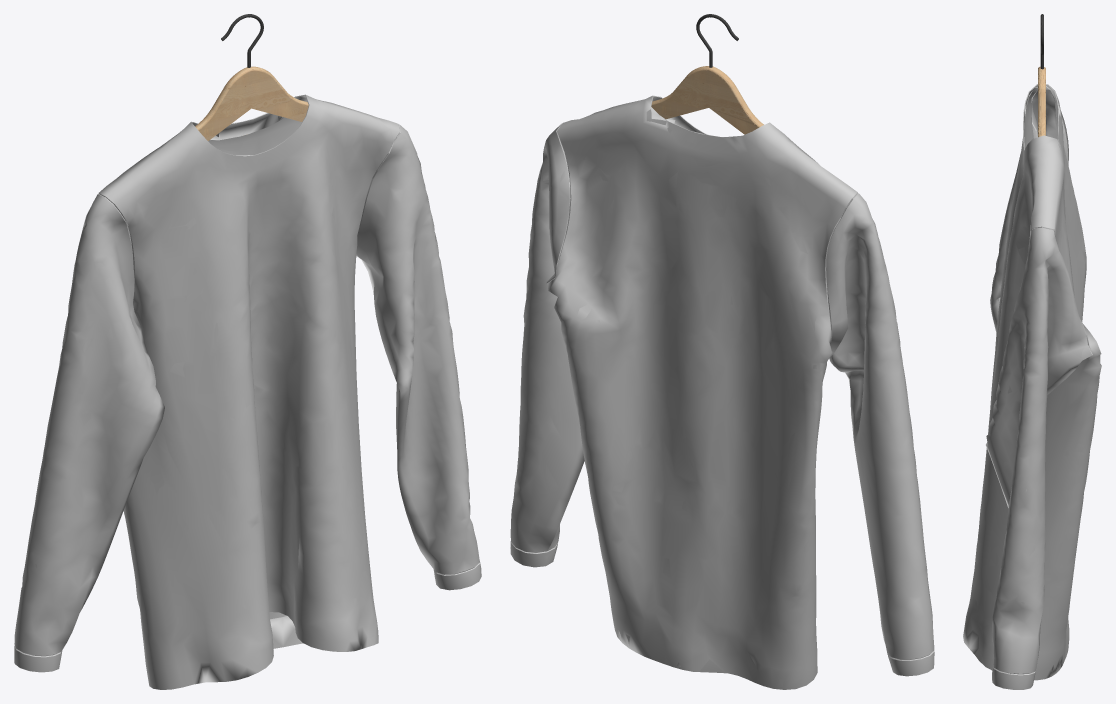
The model's file is shirt 6.FBX.
3 renders of one model, left to right at view 1: azimuth 30°, elevation 25°; view 2: azimuth 150°, elevation 25°; view 3: azimuth 270°, elevation 25°, orthographic. The views are drawn at different scales.
Visible parts, largest first — view 1: shirt 6, hanger; view 2: shirt 6, hanger; view 3: shirt 6, hanger.
Part boxes in pixels (bbox=[...]): shirt 6: bbox=[14, 94, 481, 689]; hanger: bbox=[195, 14, 308, 140]; shirt 6: bbox=[510, 95, 934, 689]; hanger: bbox=[651, 14, 763, 134]; shirt 6: bbox=[963, 84, 1101, 689]; hanger: bbox=[1038, 14, 1045, 137].
Bounding box in the file's own units: 62.9 × 89.04 × 17.96.
